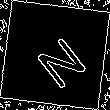N_NW: (24, 23, 86, 87)
